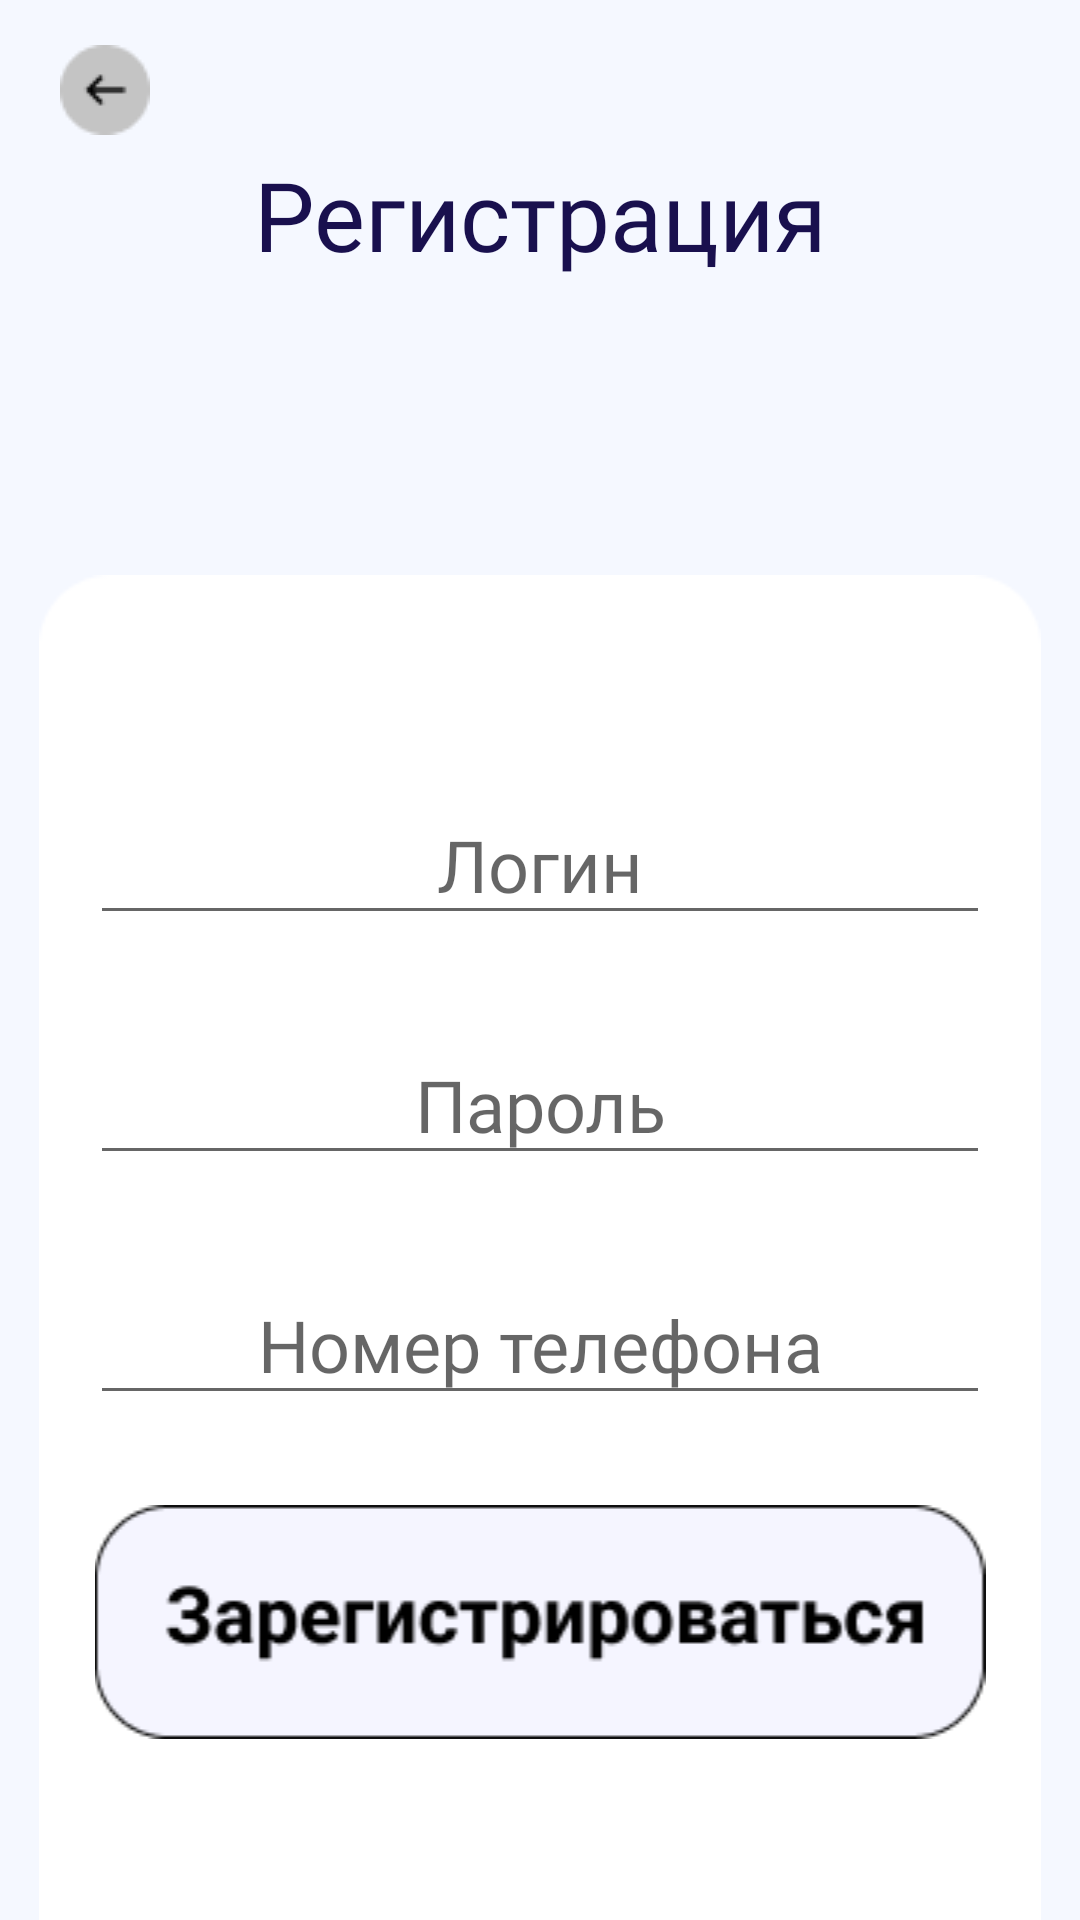

Named icons in this screenshot (1080×1920) and their centers, point (x, y):
back butt: point (105, 90)
